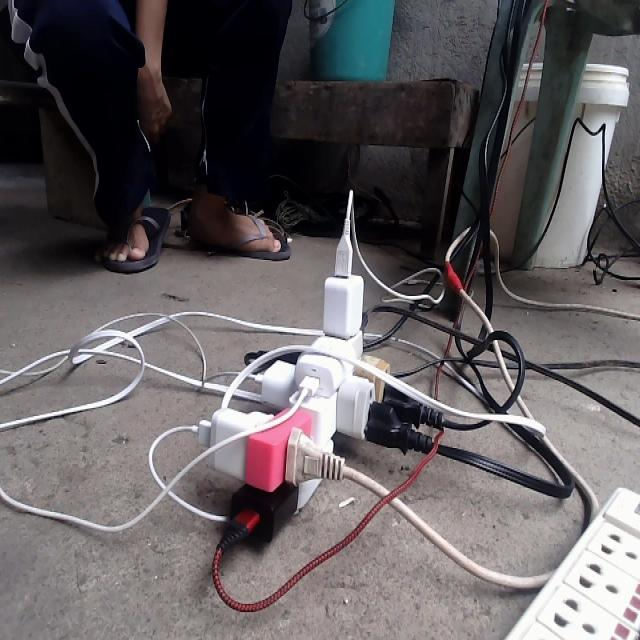-: (192, 261, 437, 543)
